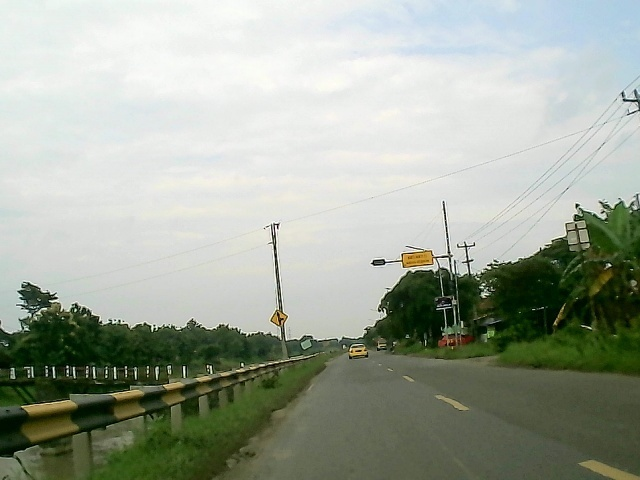Simpang kanan dengan prioritas: (268, 307, 289, 328)
